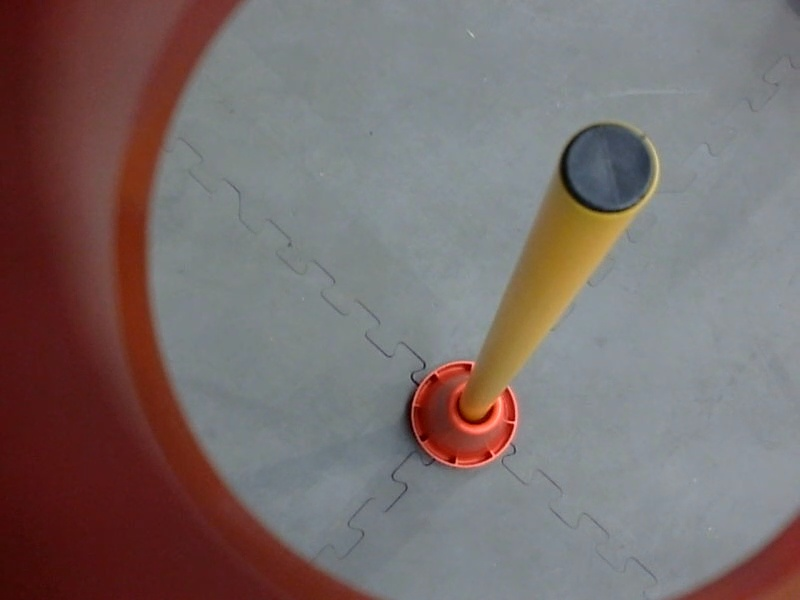tip: (551, 114, 665, 219)
